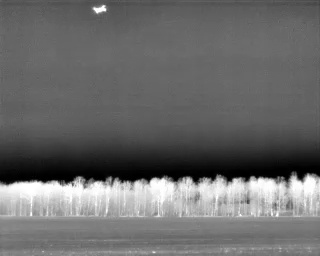DRONE: (89, 1, 111, 19)
